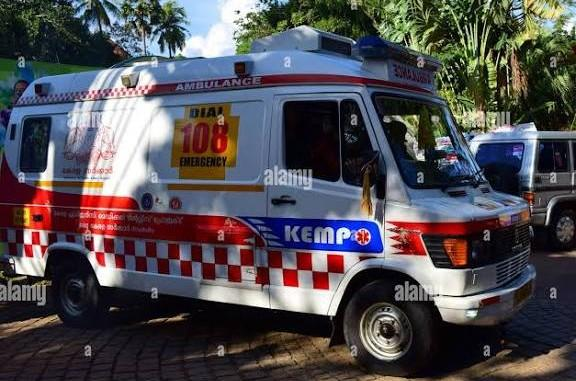ambulance: (5, 24, 531, 375)
